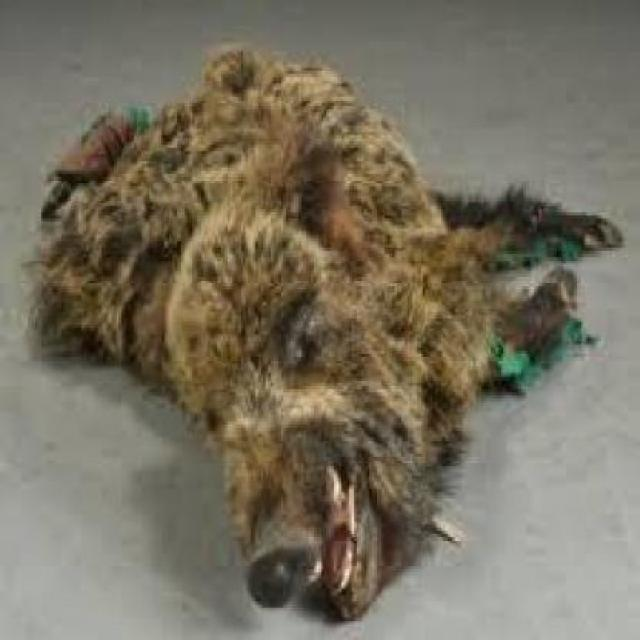wildboar: (18, 41, 623, 640)
